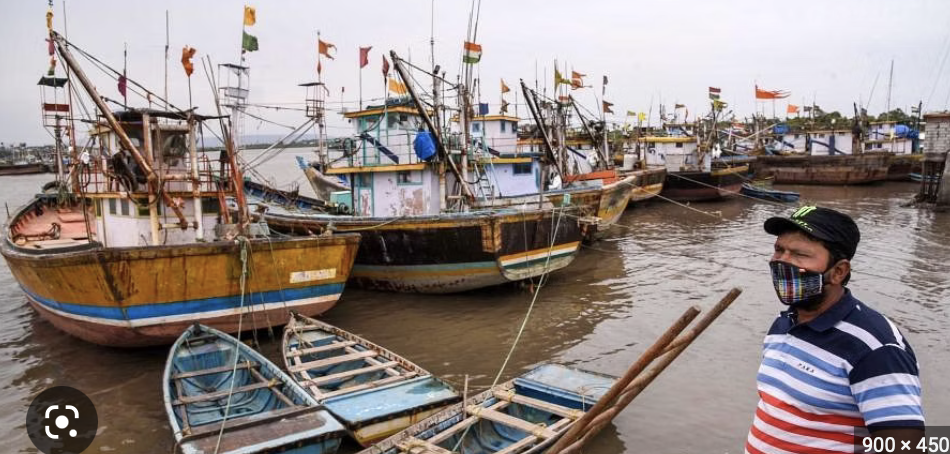ship: (157, 114, 781, 334), (10, 24, 355, 314), (363, 28, 586, 285), (631, 112, 761, 210)
